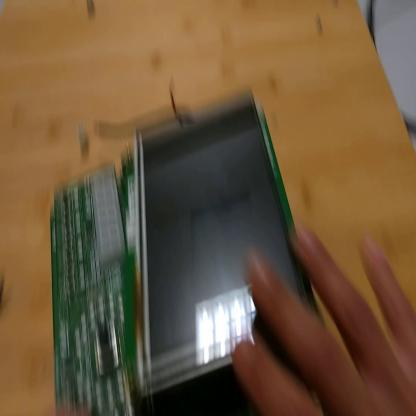hand: (233, 225, 416, 415)
low voltage board: (51, 99, 323, 416)
working area: (2, 2, 415, 414)
